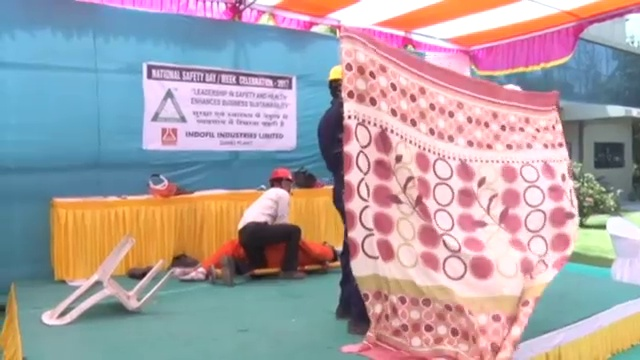helmet: (268, 165, 294, 183), (327, 61, 345, 85)
helmet_on: (327, 62, 346, 103), (268, 165, 294, 194)
person: (318, 61, 372, 335), (222, 166, 308, 289), (176, 239, 343, 281)
